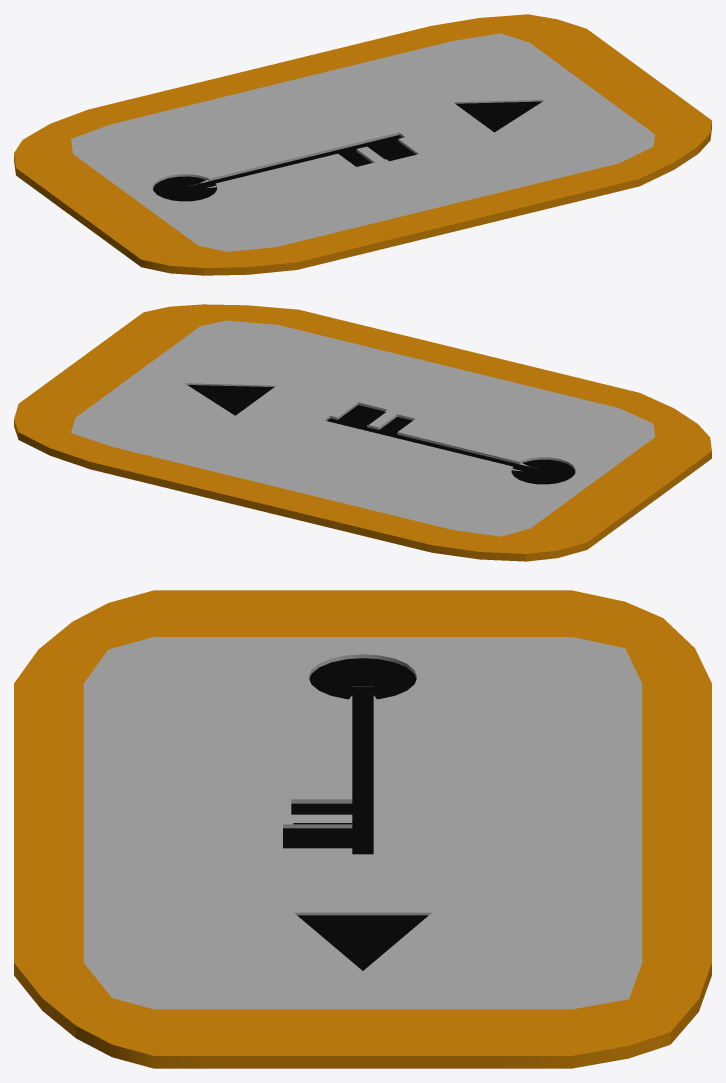
Rendered from OpenCard.fbx.
The picture shows the model from 3 angles, top to bottom: view 1: azimuth 30°, elevation 25°; view 2: azimuth 150°, elevation 25°; view 3: azimuth 270°, elevation 25°; orthographic projection. The views are drawn at different scales.
Visible parts, largest first — view 1: pPlane2; view 2: pPlane2; view 3: pPlane2.
Part boxes in pixels (x1,y1,x2,y2): pPlane2: (14,14,711,275); pPlane2: (14,304,711,561); pPlane2: (14,590,711,1068).
Bounding box in the file's own units: 7.96 × 0.1011 × 5.04.
